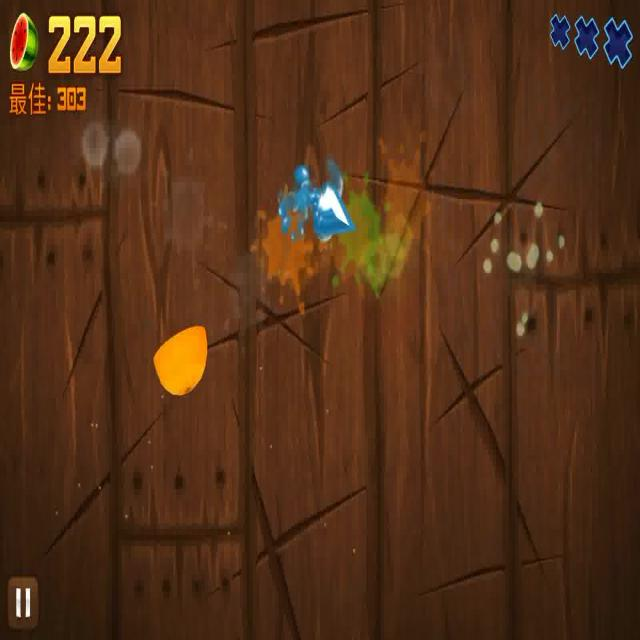fruit: (151, 328, 208, 392)
